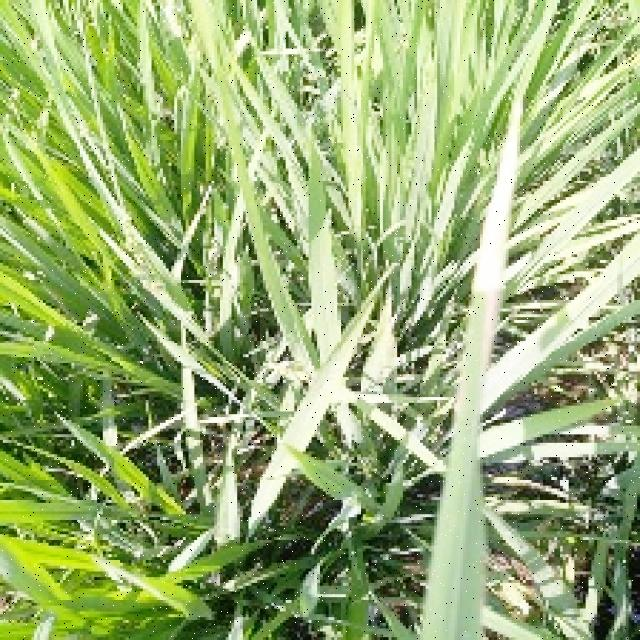health: (131, 9, 640, 528)
